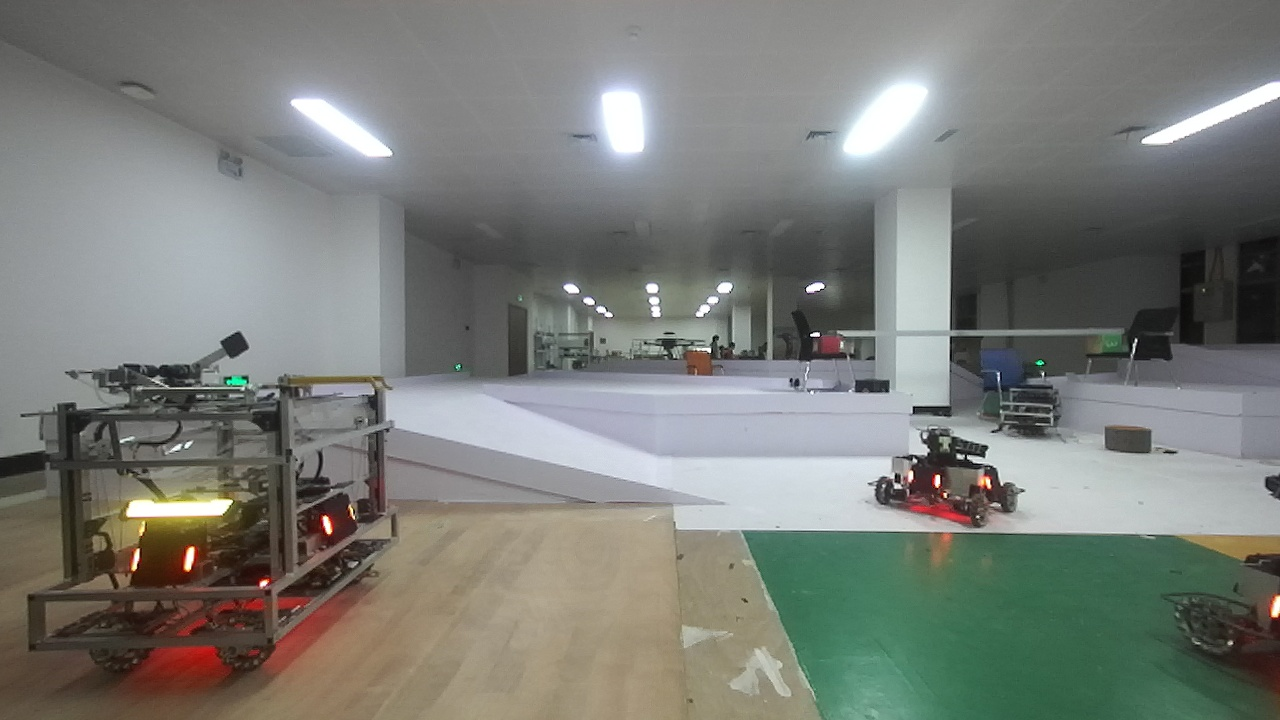car: (8, 354, 409, 680), (861, 418, 1036, 551), (1147, 559, 1280, 673)
